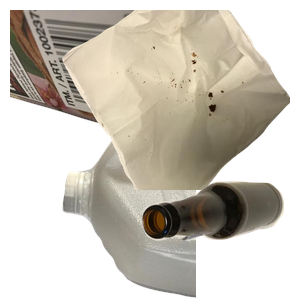cardboard: (10, 10, 213, 146)
glass: (140, 179, 300, 300)
plastic: (60, 120, 300, 300)
trash: (60, 10, 300, 190)
